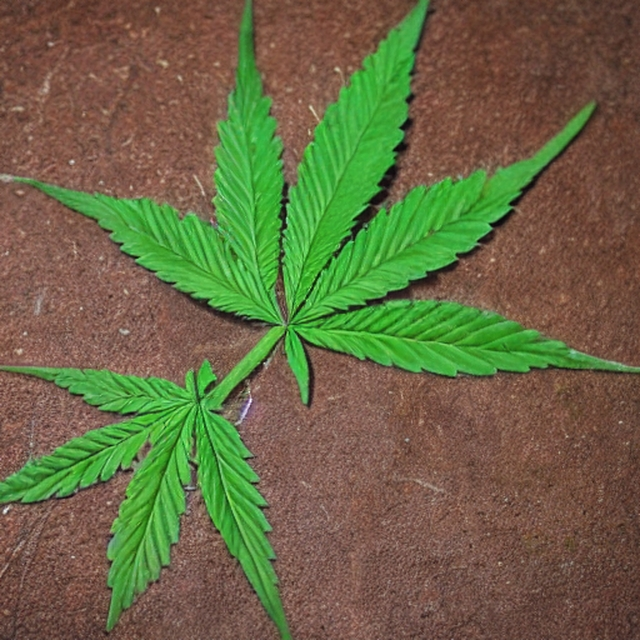Marijuana Leaf: (0, 0, 639, 639), (0, 357, 295, 639)
